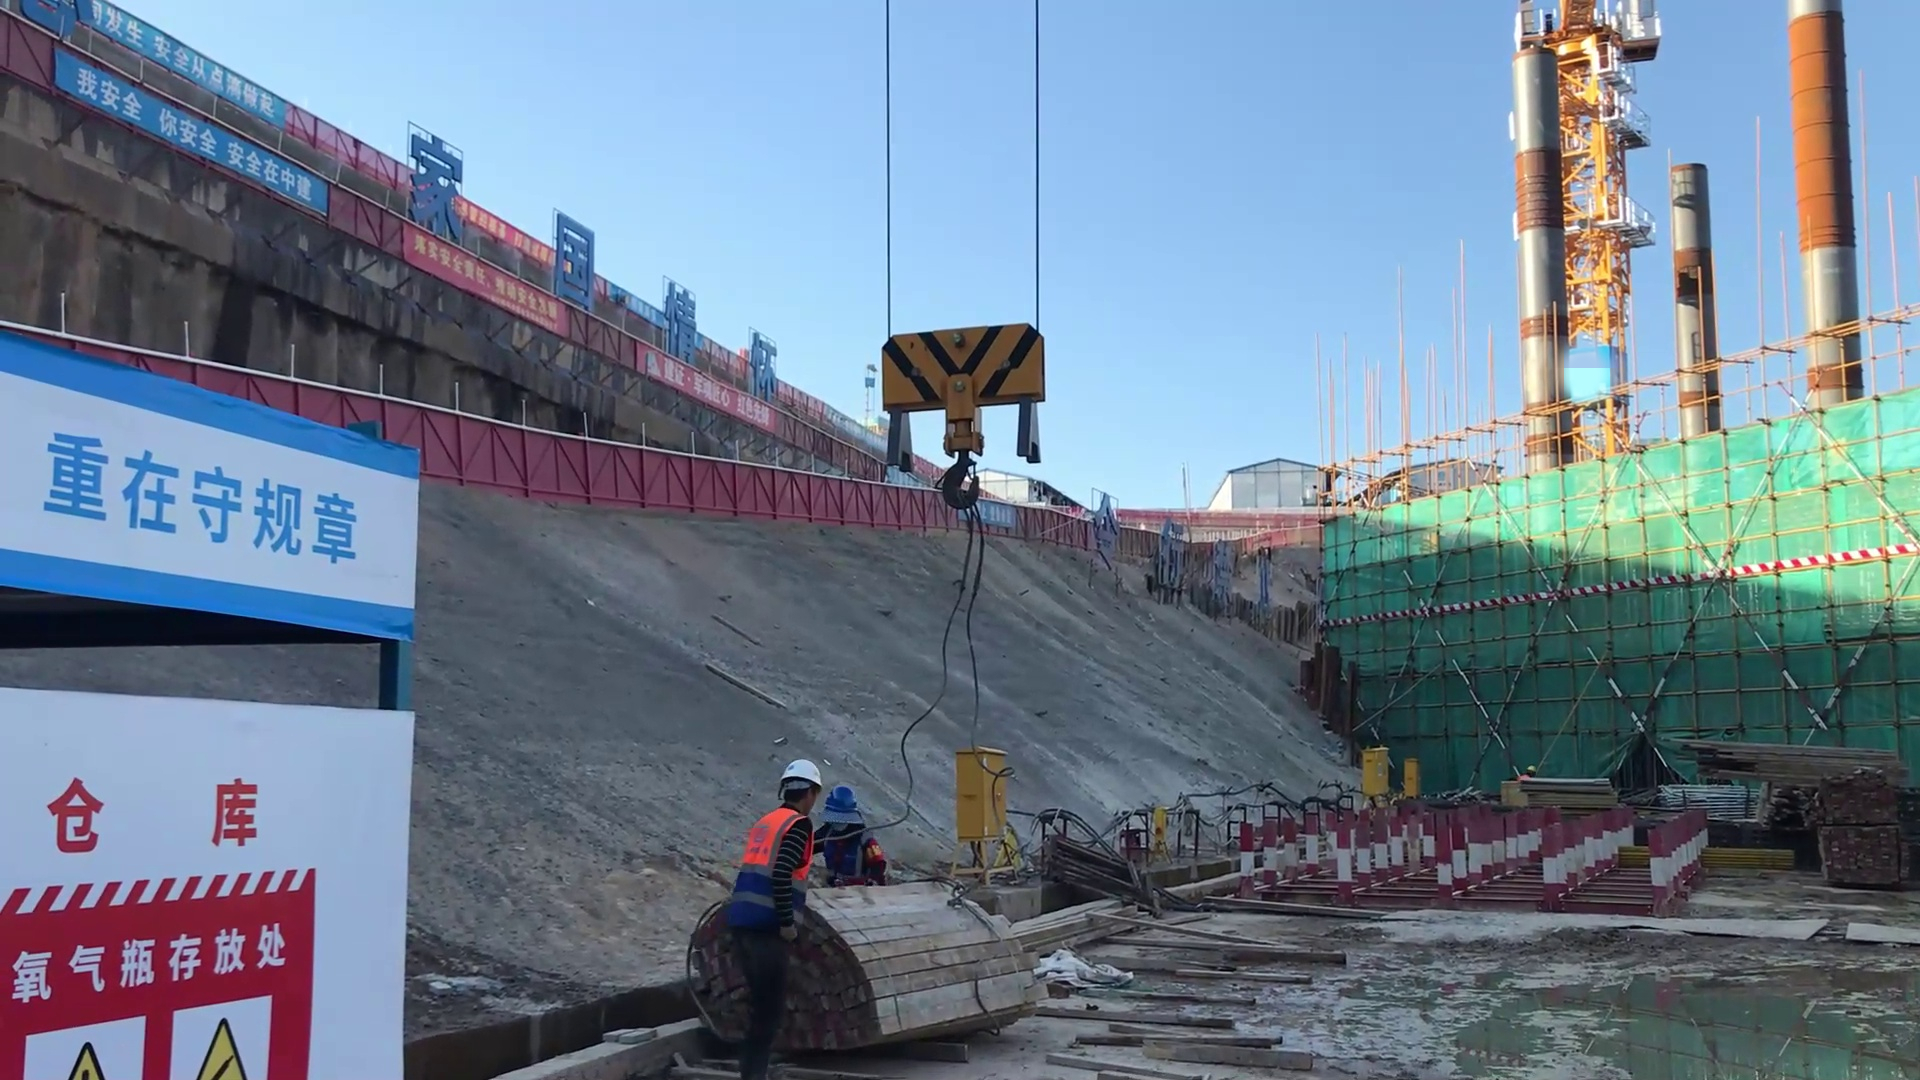ebox: (958, 750, 1003, 837), (1358, 744, 1390, 797), (1400, 758, 1424, 803)
fence: (411, 416, 709, 519), (689, 474, 956, 548)
helmet: (779, 755, 840, 821), (821, 787, 868, 834), (1526, 765, 1535, 773)
hook: (875, 306, 1048, 478)
person: (723, 755, 827, 1071), (814, 786, 886, 890)
slogan: (25, 356, 392, 620), (4, 867, 302, 1080), (53, 47, 326, 229), (42, 1, 288, 106), (402, 213, 569, 346)
vest: (738, 808, 816, 883)
wood: (1096, 875, 1337, 1079), (818, 896, 1041, 1049), (1670, 718, 1889, 797)
